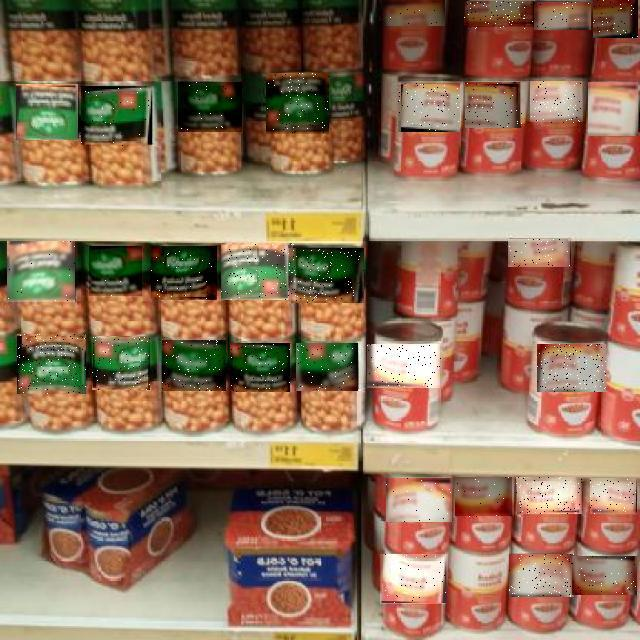Beans: (79, 86, 153, 146), (222, 243, 296, 300), (7, 242, 75, 304), (17, 334, 86, 394), (291, 248, 364, 303), (266, 74, 329, 136), (151, 246, 217, 300), (17, 85, 79, 141), (537, 345, 606, 393), (380, 554, 446, 604), (162, 340, 226, 391), (368, 344, 442, 388), (178, 82, 242, 132), (92, 336, 150, 390), (398, 83, 460, 132), (297, 343, 359, 391), (230, 343, 290, 392), (386, 478, 452, 522), (509, 554, 574, 597), (588, 82, 638, 136), (466, 83, 524, 129), (89, 246, 142, 296), (572, 556, 637, 595), (516, 477, 582, 514), (456, 478, 514, 518), (530, 82, 582, 124), (464, 2, 538, 30), (508, 239, 570, 267), (593, 0, 638, 38), (590, 478, 636, 514), (383, 0, 445, 26), (534, 2, 591, 30)
